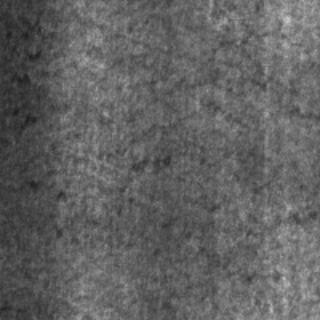crazing: (91, 6, 246, 166)
